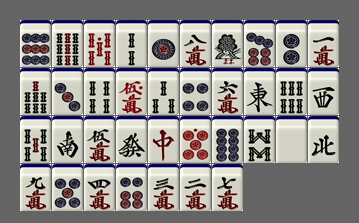0m: (116, 68, 147, 115)
0p: (180, 116, 211, 163)
0s: (84, 20, 115, 67)
1m: (308, 20, 339, 67)
1p: (148, 20, 179, 67)
1s: (212, 20, 243, 67)
1z: (244, 68, 275, 115)
2m: (180, 164, 211, 211)
2p: (276, 20, 307, 67)
2s: (116, 20, 147, 67)
2z: (52, 116, 83, 163)
3m: (148, 164, 179, 211)
3p: (52, 68, 83, 115)
3s: (148, 68, 179, 115)
3z: (308, 68, 339, 115)
4m: (84, 164, 115, 211)
4p: (180, 68, 211, 115)
4s: (84, 68, 115, 115)
4z: (308, 116, 339, 163)
5m: (84, 116, 115, 163)
5p: (52, 164, 83, 211)
5s: (20, 116, 51, 163)
5z: (276, 116, 307, 163)
6m: (212, 68, 243, 115)
6p: (116, 164, 147, 211)
6s: (276, 68, 307, 115)
6z: (116, 116, 147, 163)
7m: (212, 164, 243, 211)
7p: (244, 20, 275, 67)
7s: (20, 68, 51, 115)
7z: (148, 116, 179, 163)
8m: (180, 20, 211, 67)
8p: (212, 116, 243, 163)
8s: (244, 116, 275, 163)
9m: (20, 164, 51, 211)
9p: (20, 20, 51, 67)
9s: (52, 20, 83, 67)
